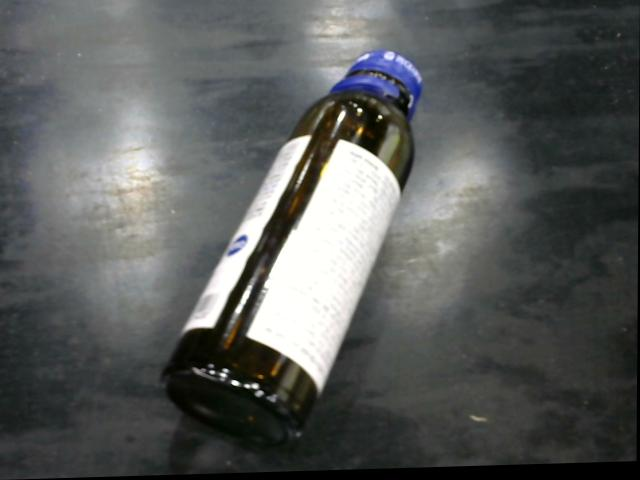glass: (161, 48, 428, 459)
